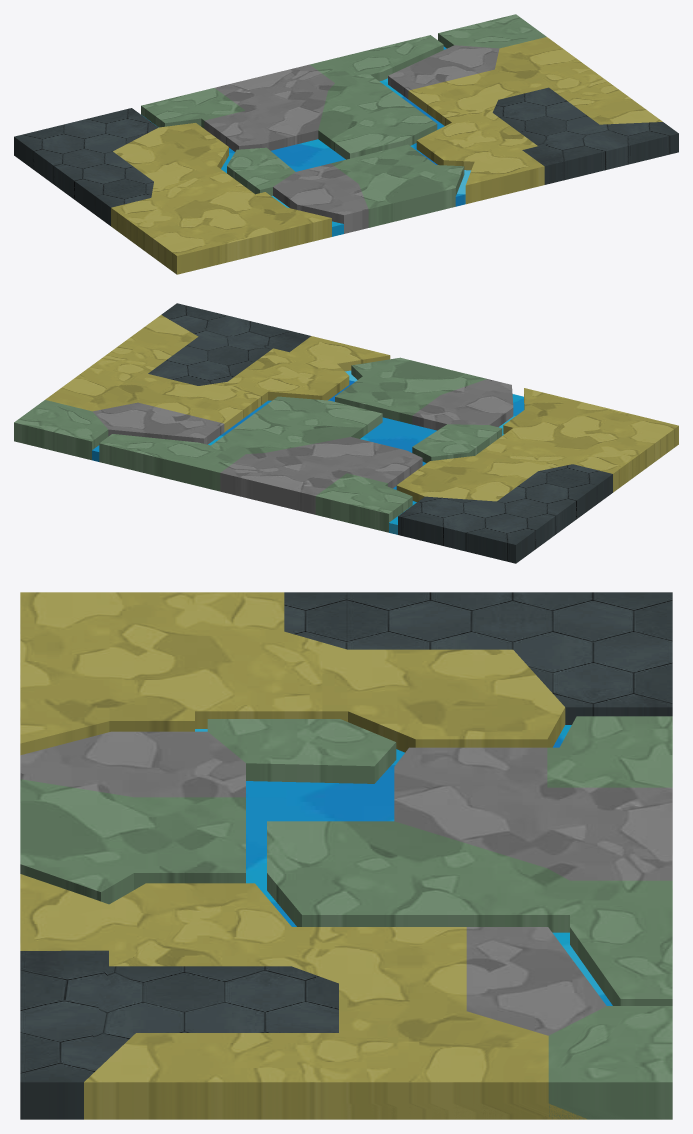
Rendered from MapTiles.fbx.
3 renders of one model, top to bottom at view 1: azimuth 30°, elevation 25°; view 2: azimuth 150°, elevation 25°; view 3: azimuth 270°, elevation 25°, orthographic. The views are drawn at different scales.
Visible parts, largest first — view 1: Forest.011, Map 4, Urban.016, Farm.018, Urban.017, Mountain.015, Farm.025, Urban.018, Farm.019, Mountain.012, Forest.015, Farm.026 (+15 smaller); view 2: Urban.017, Forest.011, Map 4, Mountain.016, Forest.012, Farm.025, Farm.019, Mountain.015, Urban.018, Forest.013, Farm.020, Farm.026 (+15 smaller); view 3: Forest.011, Farm.021, Farm.025, Farm.022, Urban.017, Urban.016, Mountain.015, Farm.019, Urban.019, Farm.020, Urban.018, Farm.018 (+15 smaller).
Part boxes in pixels (x1=…): Forest.011: x1=318, y1=75, x2=437, y2=159; Map 4: x1=14, y1=147, x2=678, y2=274; Urban.016: x1=522, y1=122, x2=678, y2=183; Farm.018: x1=159, y1=207, x2=331, y2=274; Urban.017: x1=14, y1=108, x2=158, y2=183; Mountain.015: x1=204, y1=90, x2=327, y2=151; Farm.025: x1=113, y1=123, x2=228, y2=181; Urban.018: x1=53, y1=151, x2=153, y2=225; Farm.019: x1=416, y1=113, x2=537, y2=170; Mountain.012: x1=273, y1=163, x2=368, y2=233; Forest.015: x1=359, y1=165, x2=464, y2=226; Farm.026: x1=111, y1=198, x2=226, y2=260; Urban.017: x1=398, y1=496, x2=555, y2=562; Forest.011: x1=211, y1=396, x2=382, y2=453; Map 4: x1=14, y1=436, x2=678, y2=563; Mountain.016: x1=220, y1=453, x2=346, y2=514; Forest.012: x1=99, y1=434, x2=245, y2=490; Farm.025: x1=396, y1=456, x2=537, y2=501; Farm.019: x1=228, y1=348, x2=349, y2=400; Mountain.015: x1=265, y1=437, x2=422, y2=488; Urban.018: x1=497, y1=464, x2=612, y2=533; Forest.013: x1=14, y1=400, x2=108, y2=459; Farm.020: x1=138, y1=379, x2=267, y2=432; Farm.026: x1=567, y1=422, x2=660, y2=491; Forest.011: x1=267, y1=821, x2=569, y2=932; Farm.021: x1=339, y1=1011, x2=548, y2=1119; Farm.025: x1=348, y1=649, x2=565, y2=752; Farm.022: x1=84, y1=1033, x2=338, y2=1119; Urban.017: x1=513, y1=592, x2=672, y2=724; Urban.016: x1=20, y1=950, x2=135, y2=1119; Mountain.015: x1=394, y1=747, x2=547, y2=867; Farm.019: x1=109, y1=883, x2=291, y2=966; Urban.019: x1=136, y1=966, x2=338, y2=1032; Farm.020: x1=292, y1=927, x2=466, y2=1011; Urban.018: x1=284, y1=592, x2=513, y2=649; Farm.018: x1=20, y1=592, x2=109, y2=755.
Size of the model in its own units: 192000 by 6869 by 108000.
5 materials, 5 textured.
